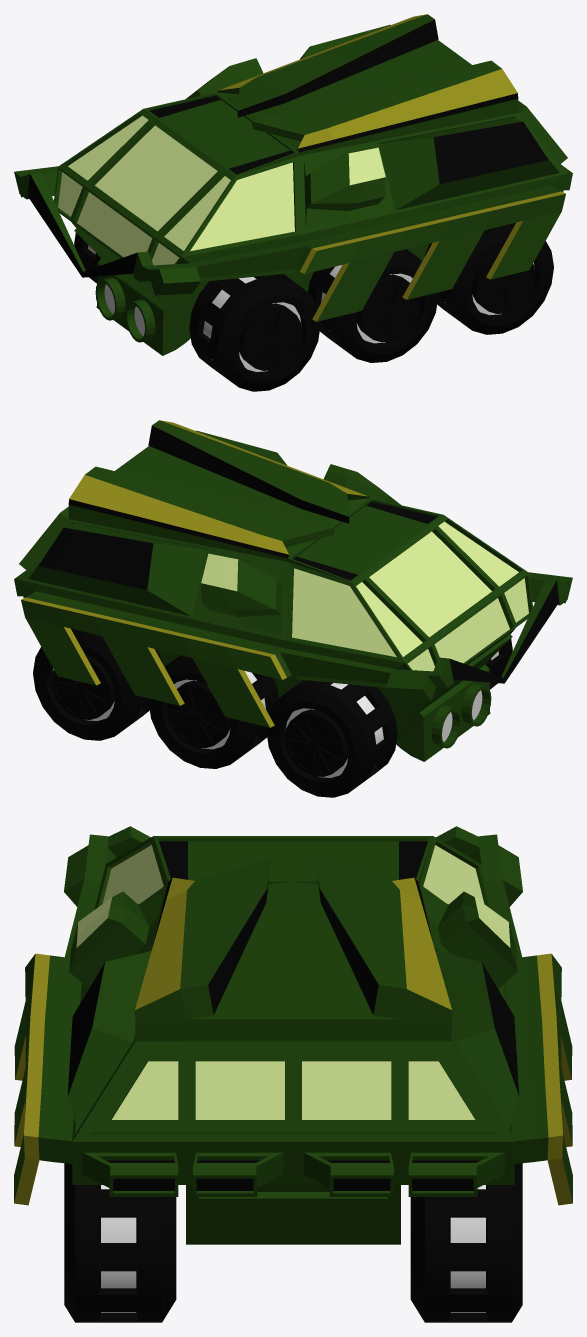
Rendered from SimpleCar3.fbx.
3 renders of one model, top to bottom at view 1: azimuth 30°, elevation 25°; view 2: azimuth 150°, elevation 25°; view 3: azimuth 270°, elevation 25°, orthographic. The views are drawn at different scales.
Parts seen in each view (by area): view 1: Cabine, Wheeels.003, Wheeels.002, Wheeels.001; view 2: Cabine, Wheeels.003, Wheeels.002, Wheeels.001; view 3: Cabine, Wheeels.001.
Part boxes in pixels (left/top/right/bottom): Cabine: left=14, top=14, right=572, bottom=355; Wheeels.003: left=74, top=232, right=320, bottom=391; Wheeels.002: left=308, top=249, right=438, bottom=362; Wheeels.001: left=424, top=222, right=553, bottom=334; Cabine: left=14, top=420, right=572, bottom=761; Wheeels.003: left=266, top=638, right=512, bottom=797; Wheeels.002: left=148, top=655, right=278, bottom=768; Wheeels.001: left=33, top=628, right=162, bottom=740; Cabine: left=14, top=826, right=572, bottom=1244; Wheeels.001: left=64, top=1163, right=522, bottom=1322.
Size of the model in its own units: 708 by 364 by 521.
